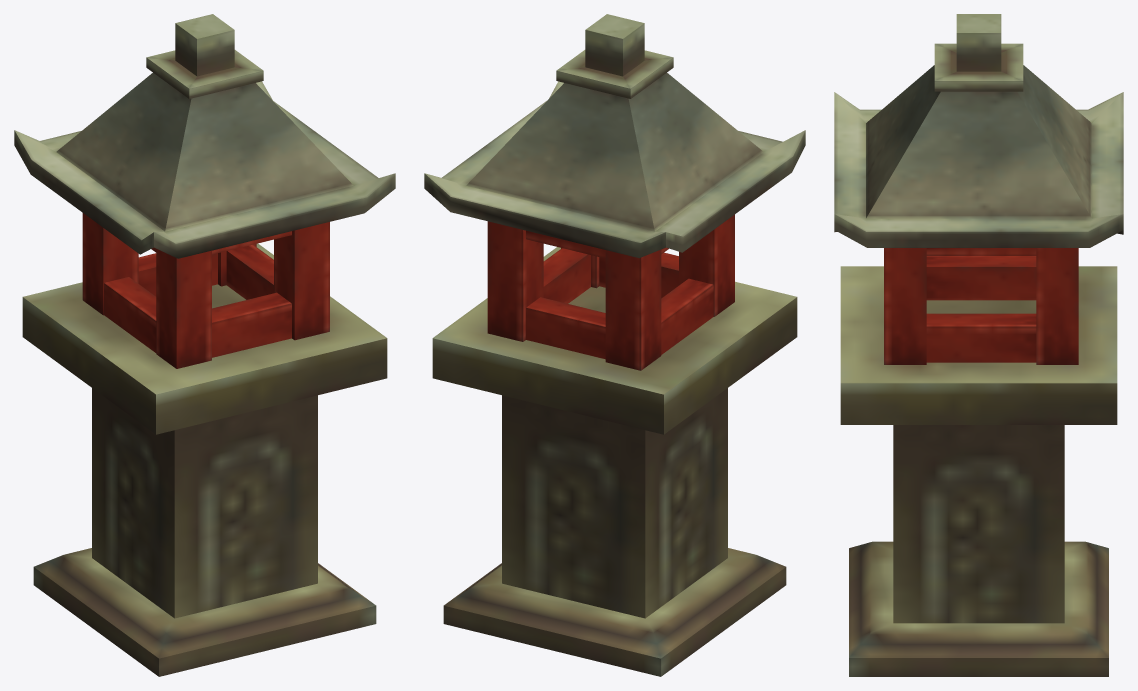
Rendered from shideng.FBX.
3 renders of one model, left to right at view 1: azimuth 30°, elevation 25°; view 2: azimuth 150°, elevation 25°; view 3: azimuth 270°, elevation 25°, orthographic. The views are drawn at different scales.
Visible parts, largest first — view 1: shideng; view 2: shideng; view 3: shideng.
Part boxes in pixels (x1,y1,x2,y2): shideng: (14,14,395,676); shideng: (424,14,805,676); shideng: (834,14,1123,676).
Bounding box in the file's own units: 4.09 × 4.09 × 9.35.
